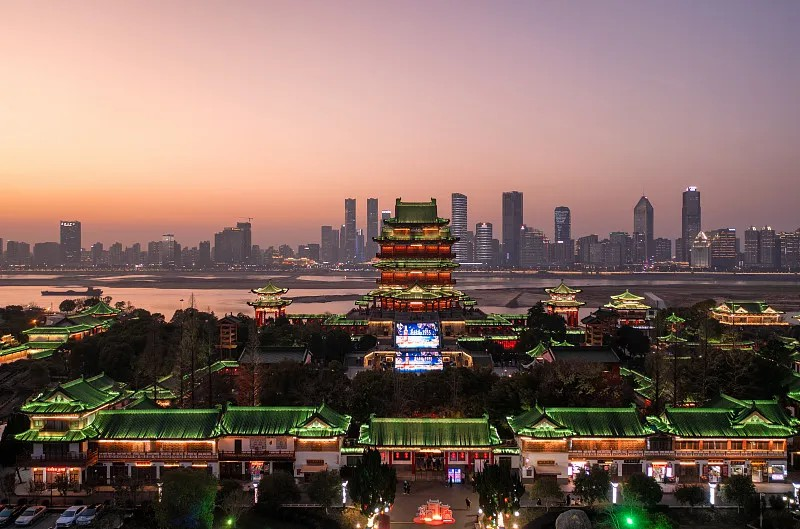Teng: (356, 197, 478, 314)
